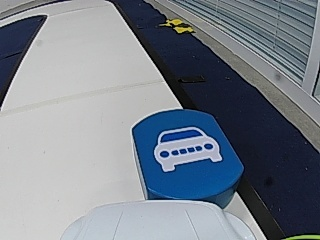safety: (153, 128, 225, 170)
